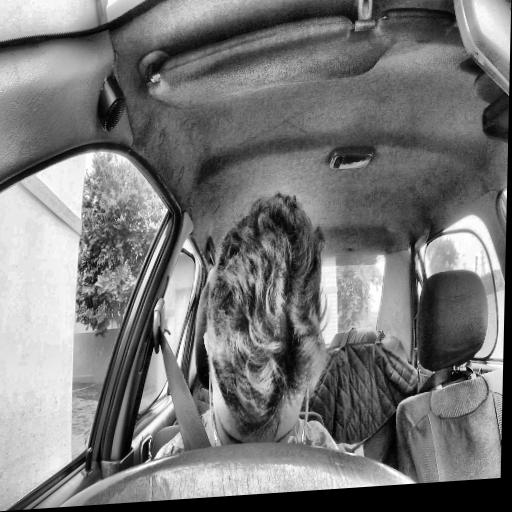drowsy: (199, 190, 329, 460)
